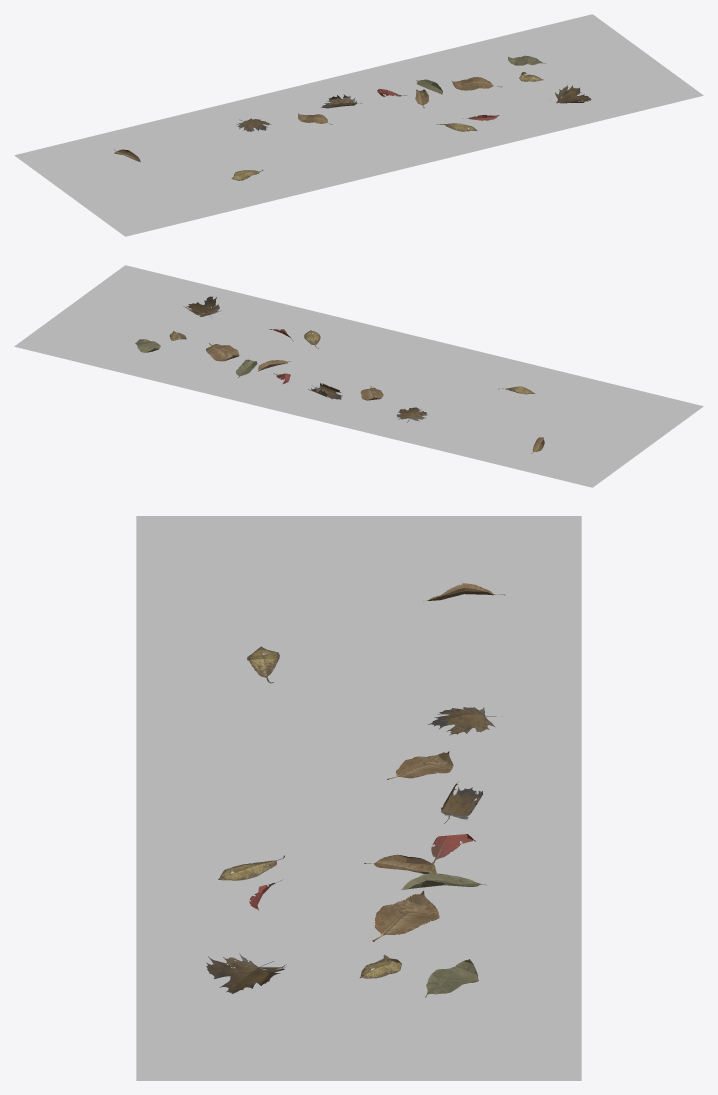
File: Leaves9.FBX
3 views of the same model, one above another, from view 1: azimuth 30°, elevation 25°; view 2: azimuth 150°, elevation 25°; view 3: azimuth 270°, elevation 25° (orthographic). The views are drawn at different scales.
Visible parts, largest first — view 1: Leaves9_Decal, Leaves9; view 2: Leaves9_Decal, Leaves9; view 3: Leaves9_Decal, Leaves9.
Part boxes in pixels (x1,y1,x2,y2): Leaves9_Decal: (14, 14, 703, 236); Leaves9: (114, 55, 591, 180); Leaves9_Decal: (14, 265, 703, 487); Leaves9: (135, 296, 544, 453); Leaves9_Decal: (136, 516, 581, 1080); Leaves9: (206, 583, 505, 997).
Size of the model in its own units: 1.65 by 0.0268 by 0.5497.
